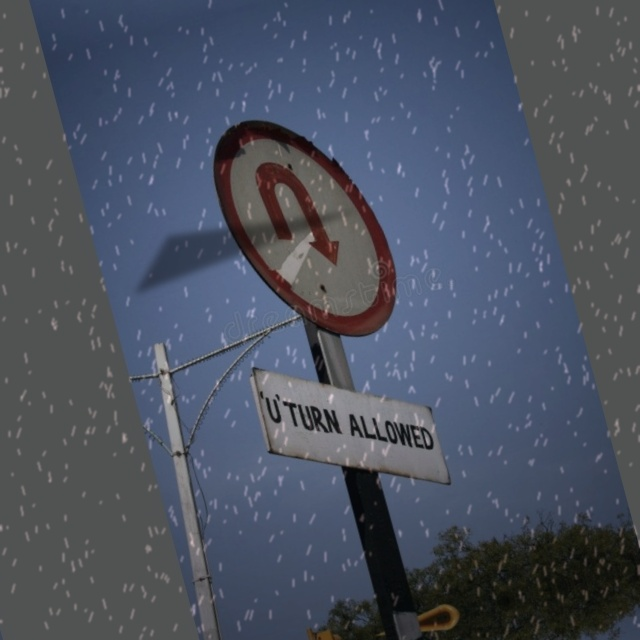U_Turn_Ahead: (188, 82, 419, 356)
